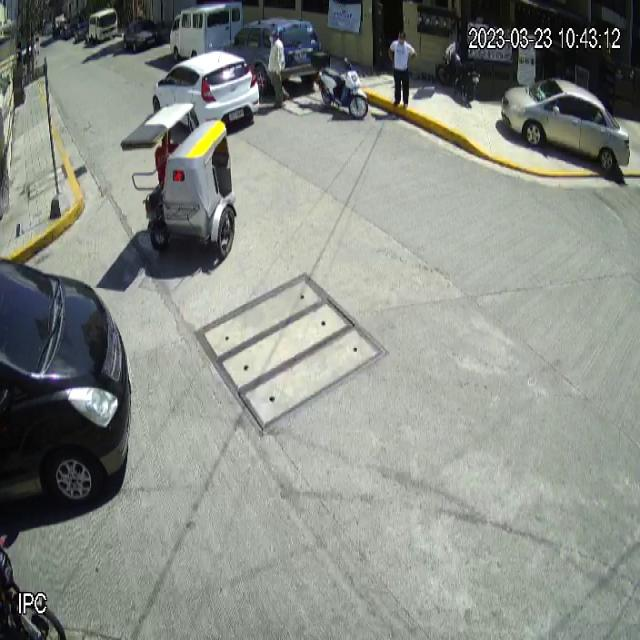Car: (501, 78, 630, 171), (216, 16, 323, 96), (152, 48, 260, 126)
Motorcycle: (312, 54, 368, 120)
Tricycle: (121, 102, 238, 267)
Van: (169, 0, 242, 69)
